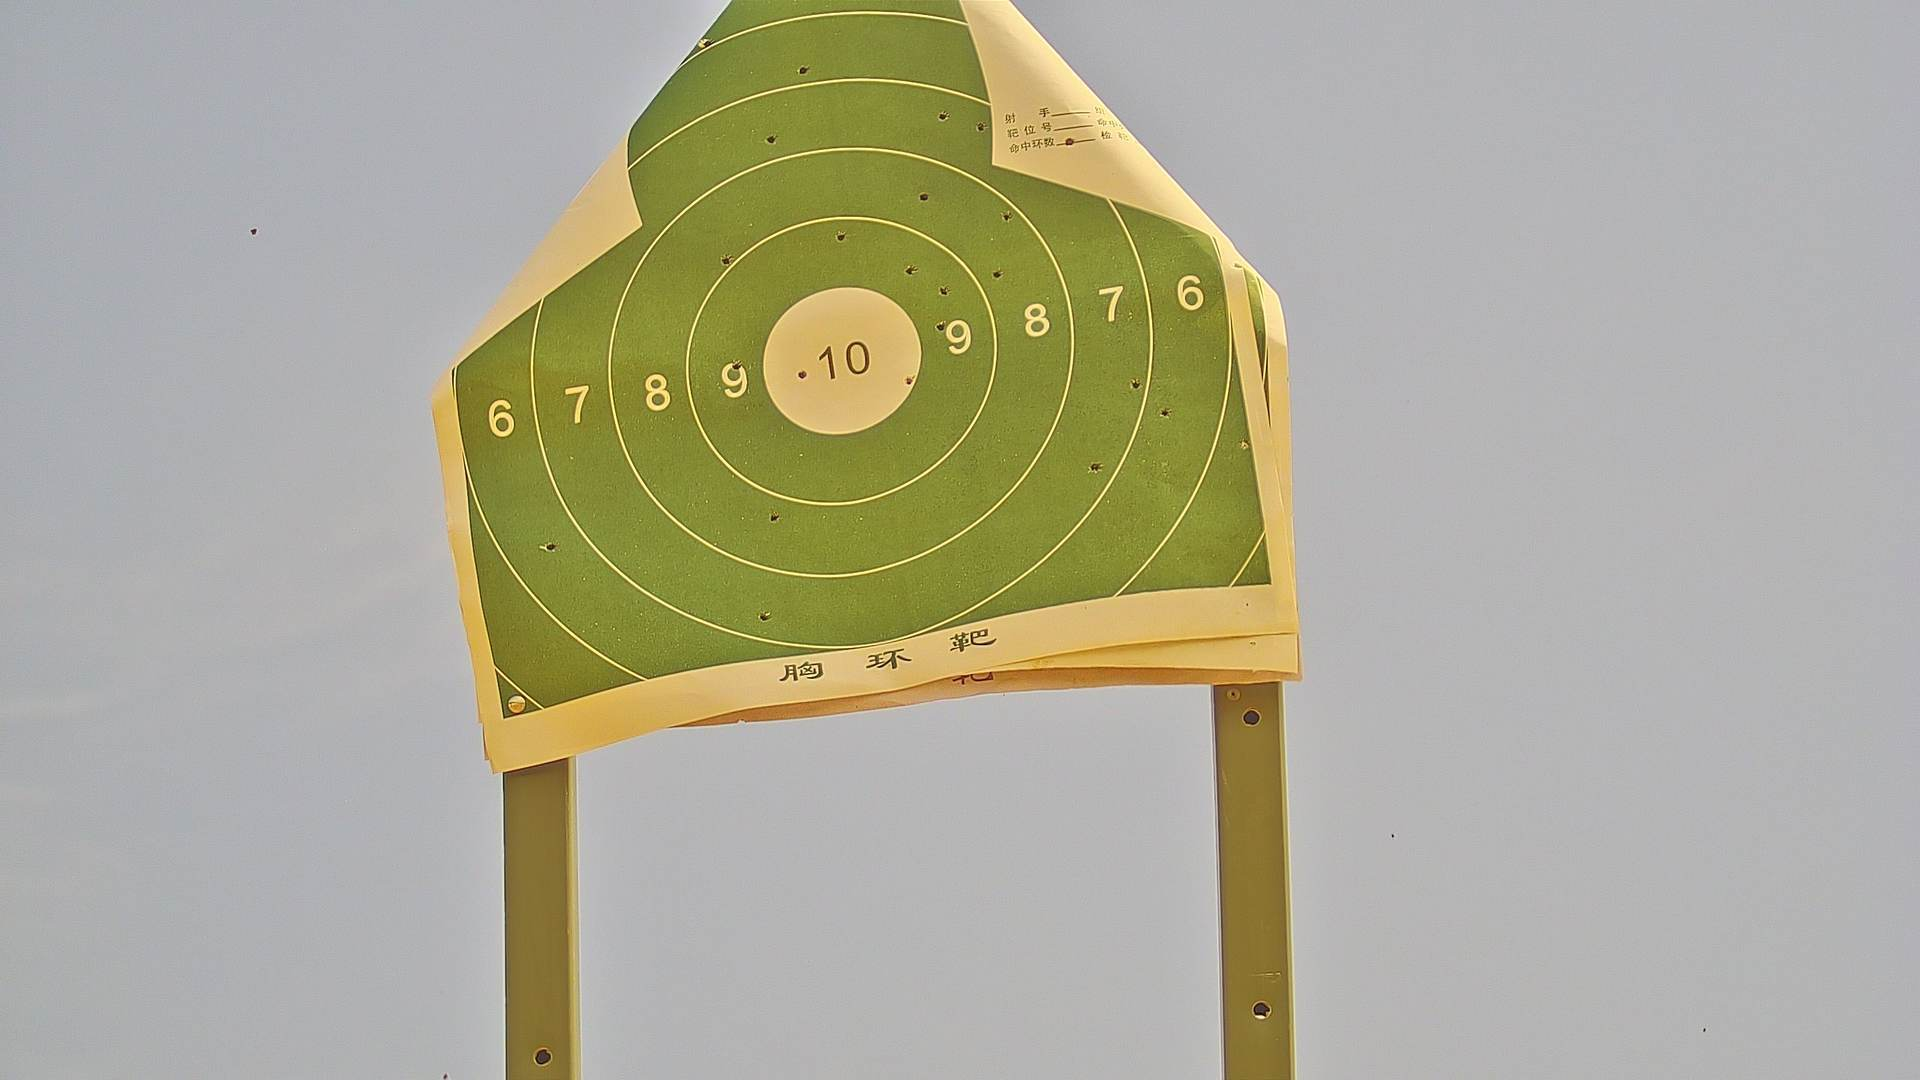hole: (934, 318, 953, 338), (936, 281, 955, 302), (996, 207, 1015, 225), (539, 537, 562, 553), (764, 508, 783, 525), (1087, 456, 1102, 477), (794, 367, 812, 384), (756, 605, 773, 624), (902, 371, 919, 388), (765, 129, 781, 146), (727, 355, 744, 371), (833, 227, 848, 245), (936, 107, 949, 127), (1158, 402, 1171, 422), (794, 62, 810, 78), (717, 251, 735, 265), (1130, 371, 1142, 390), (901, 261, 916, 276), (699, 37, 712, 53), (915, 189, 928, 204), (989, 266, 1004, 280), (975, 119, 986, 132)
kernel: (836, 359, 848, 369)
target: (452, 3, 1273, 723)
ten: (760, 285, 926, 436)
